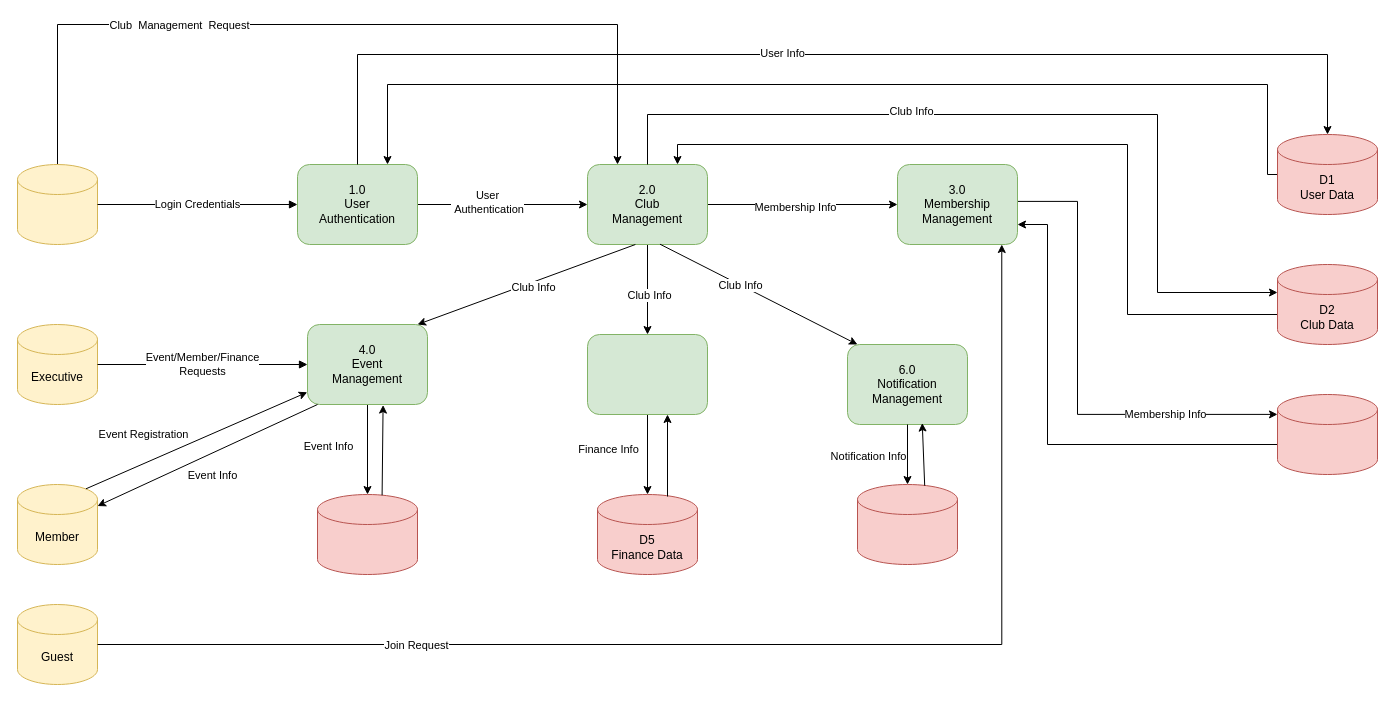
The diagram is 1395 pixels wide and 702 high, and some of its shapes have lost their labels. Each missing label, with the centre of its shape:
"5.0 Financial Management" belongs at (x=647, y=374).
"Admin" belongs at (x=57, y=204).
"D3 Membership Data" belongs at (x=1327, y=434).
"D4 Event Data" belongs at (x=367, y=534).
"D6 Notification Data" belongs at (x=907, y=524).
